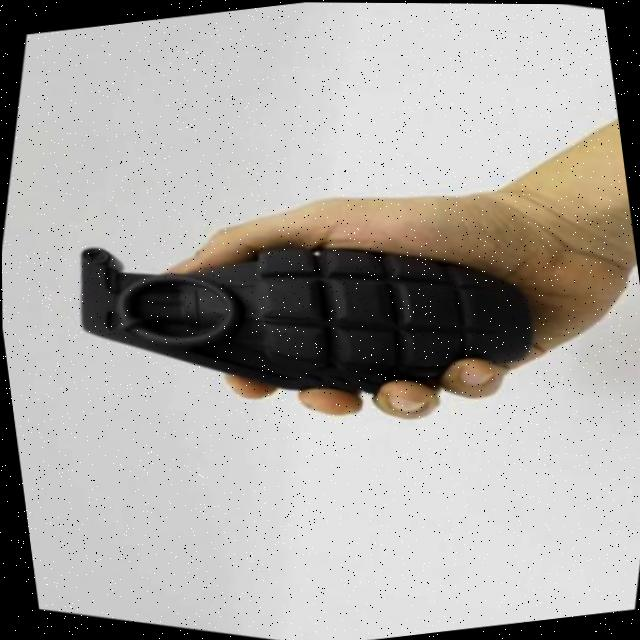grenade: (28, 144, 564, 469)
